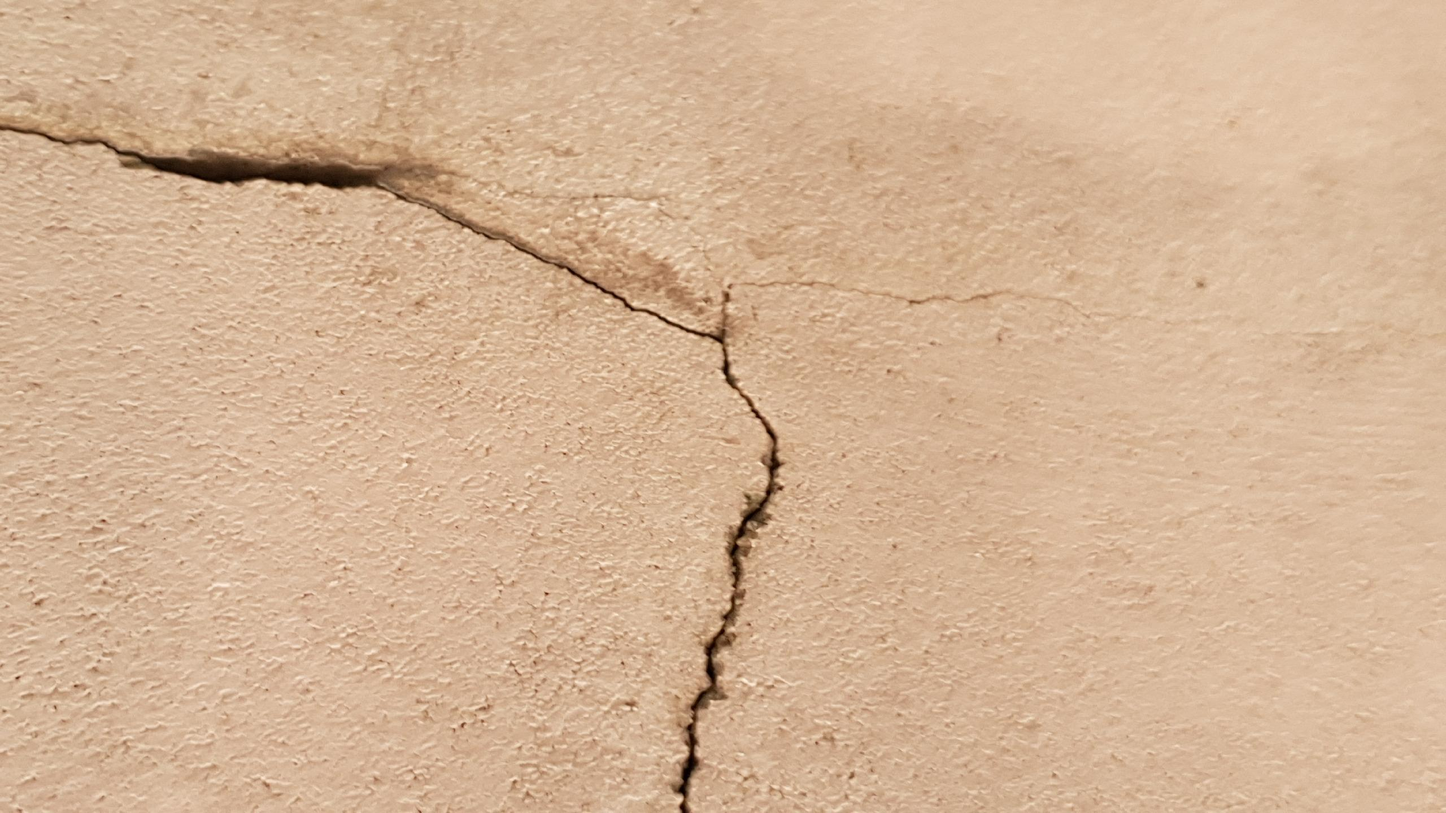crack: (0, 124, 780, 807)
